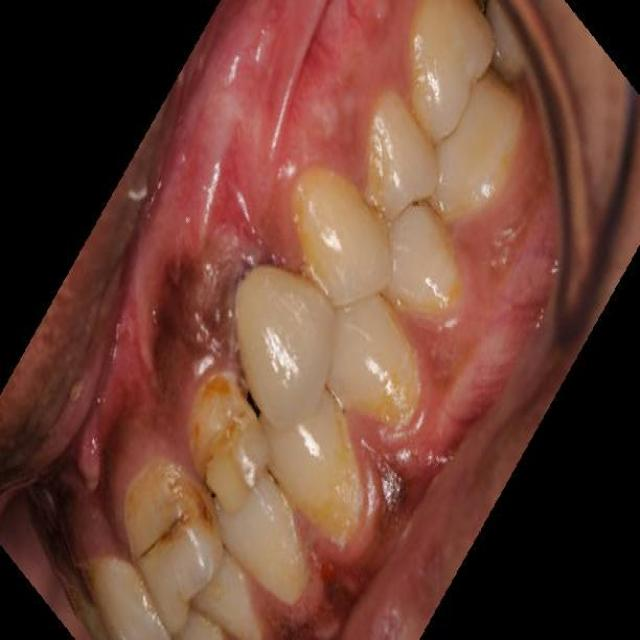caries: (186, 370, 266, 499), (126, 464, 205, 579)
